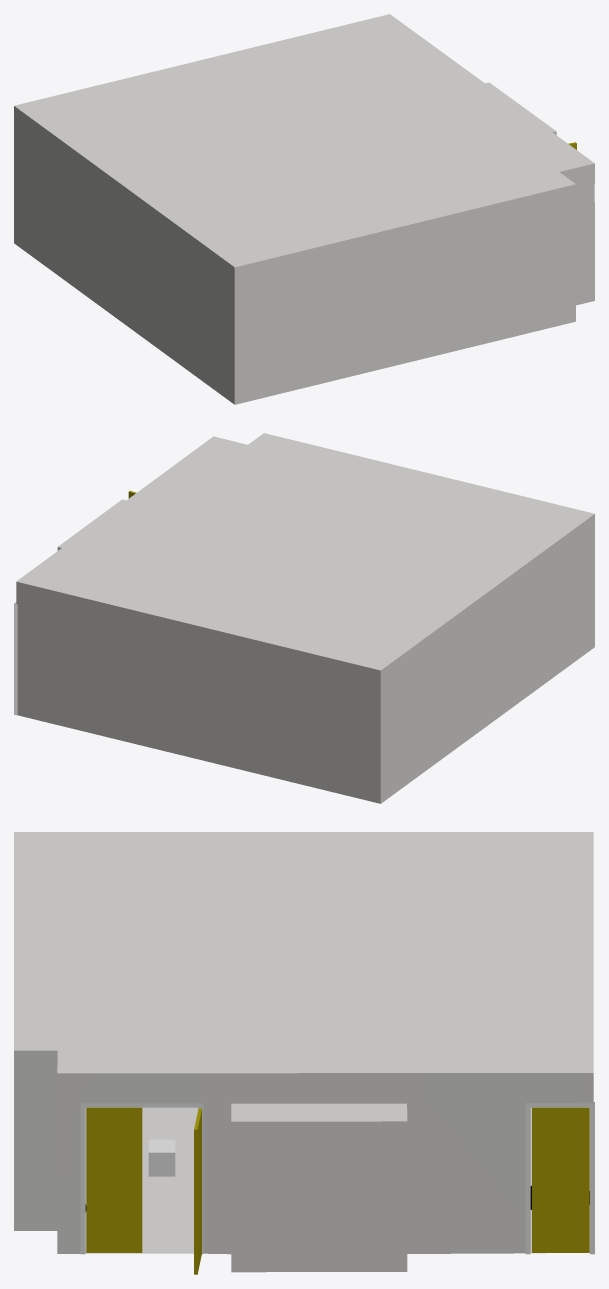
Rendered from DemoRoom.gltf.
3 views of the same model, one above another, from view 1: azimuth 30°, elevation 25°; view 2: azimuth 150°, elevation 25°; view 3: azimuth 270°, elevation 25° (orthographic). The views are drawn at different scales.
Visible parts, largest first — view 1: Room, Ceiling; view 2: Room, Ceiling; view 3: Ceiling, Room, InteriorDoor_1, InteriorDoor, Floor, InteriorDoorProfile, InteriorDoorProfile_2, InteriorDoor_1_2, Projector_Instance.
Part boxes in pixels (x1=…): Room: x1=14, y1=14, x2=594, y2=404; Ceiling: x1=15, y1=14, x2=593, y2=266; Room: x1=16, y1=433, x2=594, y2=803; Ceiling: x1=17, y1=433, x2=593, y2=670; Ceiling: x1=14, y1=832, x2=592, y2=1072; Room: x1=14, y1=832, x2=593, y2=1272; InteriorDoor_1: x1=532, y1=1107, x2=589, y2=1252; InteriorDoor: x1=86, y1=1107, x2=142, y2=1252; Floor: x1=85, y1=1107, x2=589, y2=1253; InteriorDoorProfile: x1=525, y1=1102, x2=594, y2=1254; InteriorDoorProfile_2: x1=80, y1=1103, x2=203, y2=1254; InteriorDoor_1_2: x1=194, y1=1108, x2=201, y2=1274; Projector_Instance: x1=148, y1=1139, x2=175, y2=1176.
Size of the model in its own units: 10.84 by 3.48 by 10.12.
